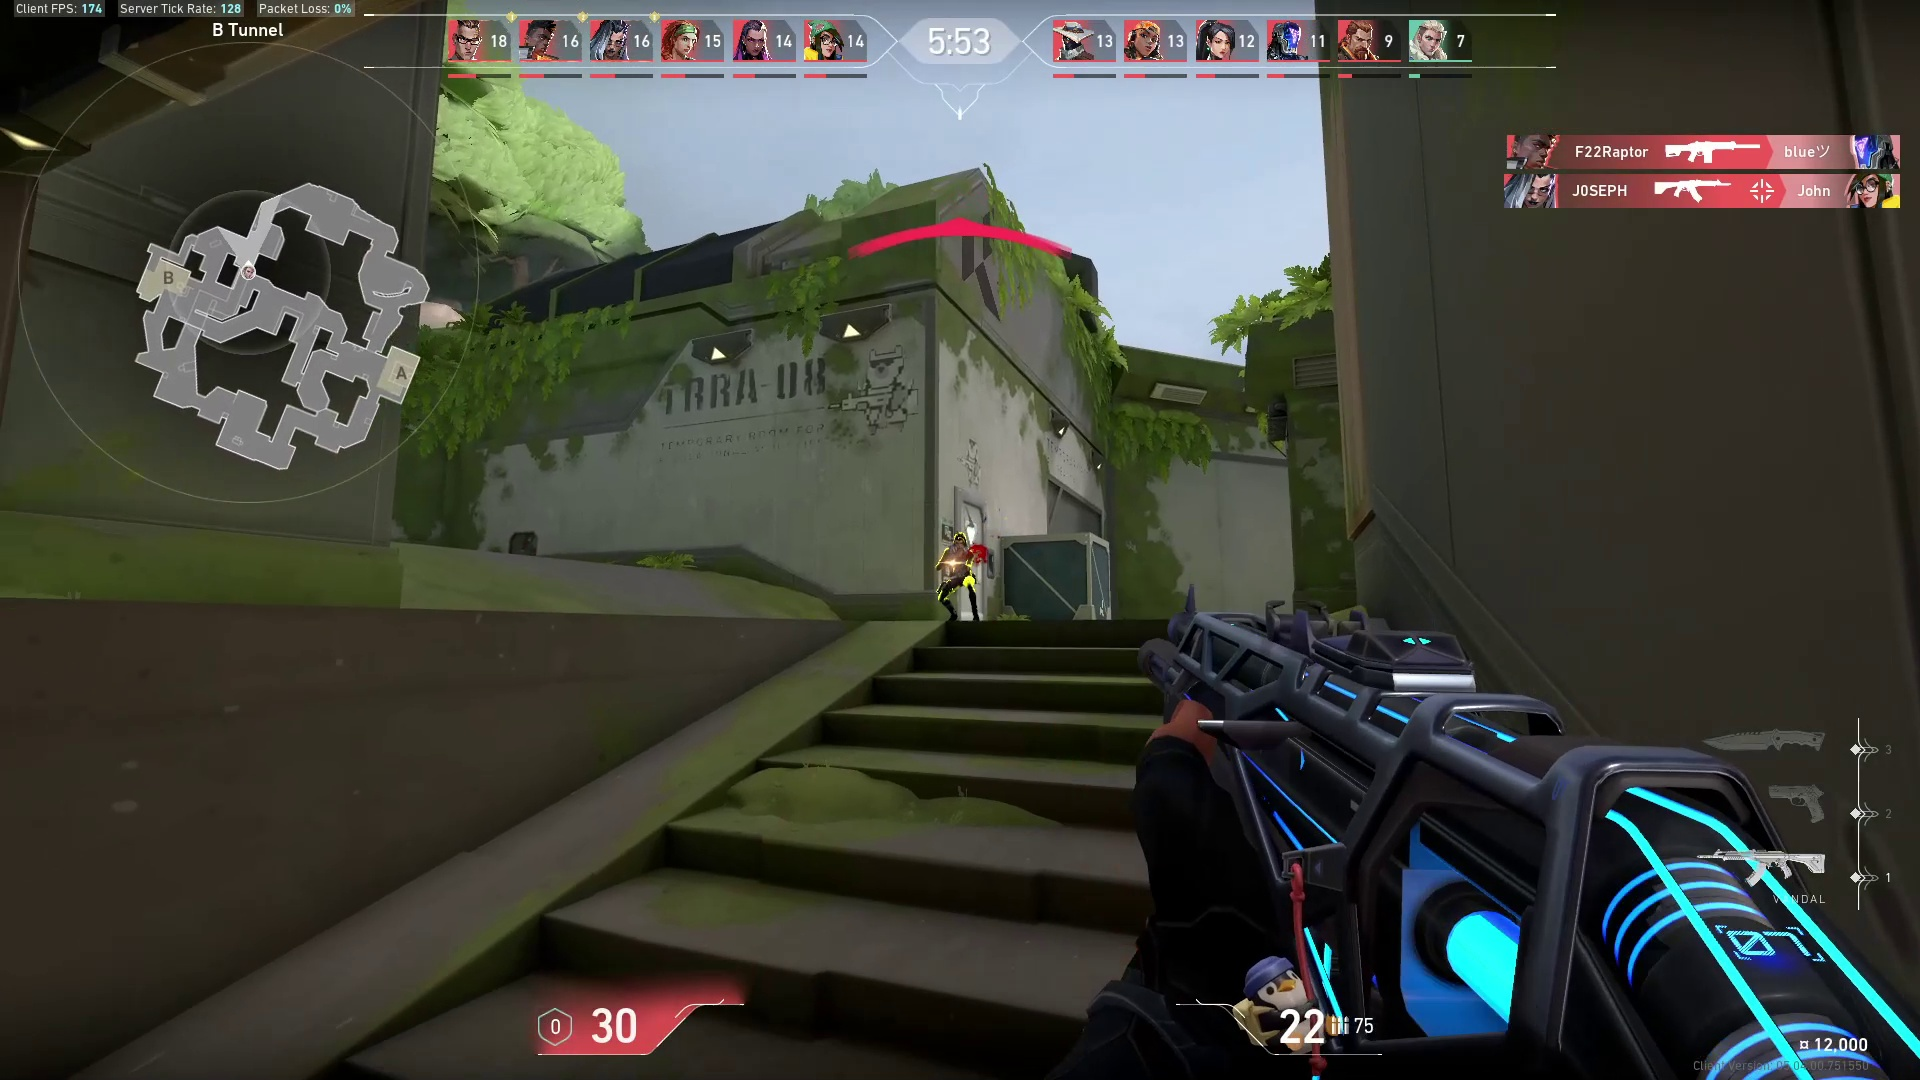1: (928, 549, 1000, 622)
["enemy_head", "enemy_body", "enemy_gen", "dog"]: (948, 526, 973, 554)
